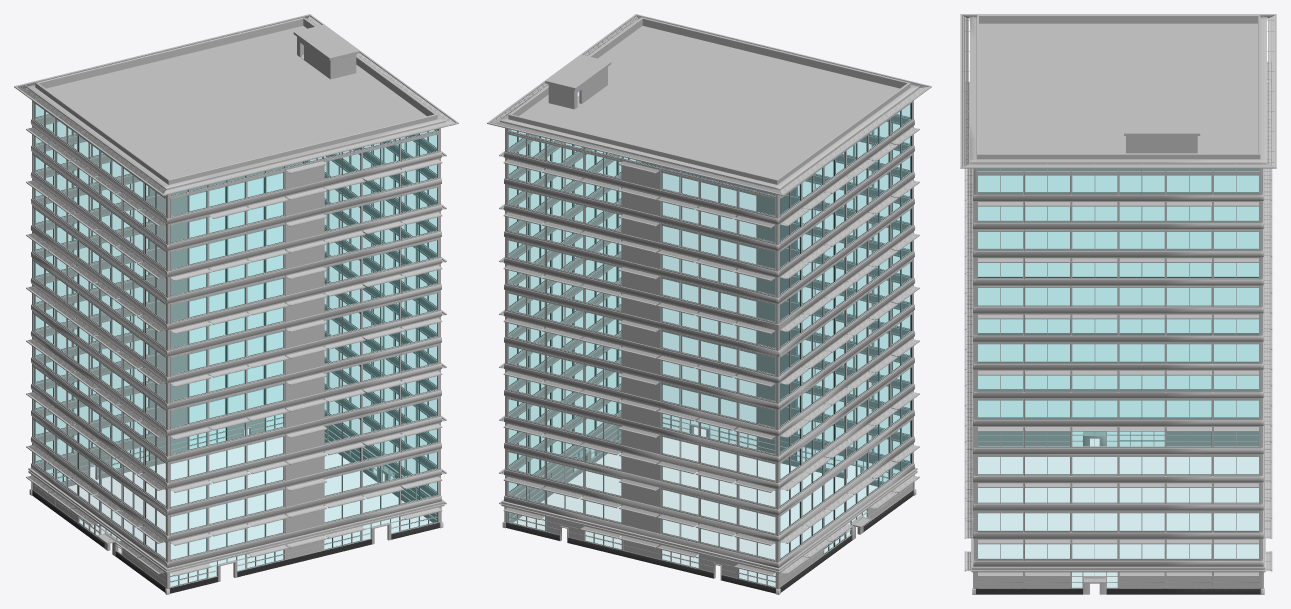
Rendered from Building05.fbx.
3 renders of one model, left to right at view 1: azimuth 30°, elevation 25°; view 2: azimuth 150°, elevation 25°; view 3: azimuth 270°, elevation 25°, orthographic. The views are drawn at different scales.
Parts seen in each view (by area): view 1: Building05; view 2: Building05; view 3: Building05.
Part boxes in pixels (bbox=[...]): Building05: bbox=[14, 14, 458, 594]; Building05: bbox=[487, 14, 931, 594]; Building05: bbox=[960, 14, 1276, 594].
Bounding box in the file's own units: 4749 × 6552 × 4132.
